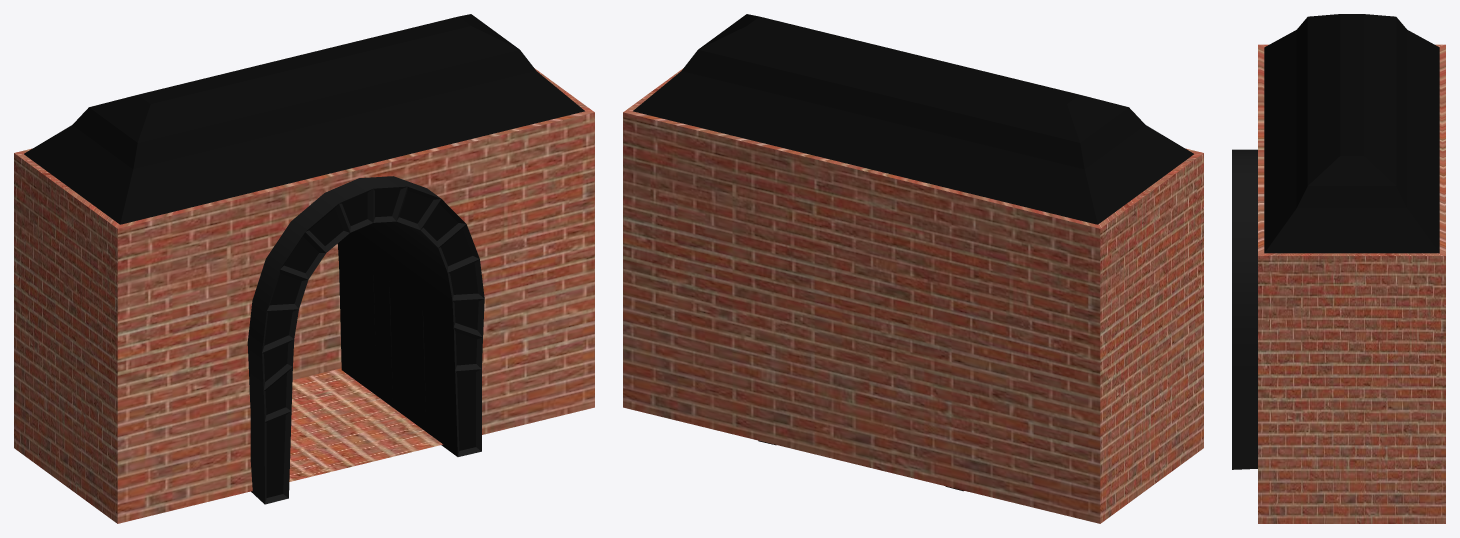
File: tunel.FBX
3 views of the same model, side by side, from view 1: azimuth 30°, elevation 25°; view 2: azimuth 150°, elevation 25°; view 3: azimuth 270°, elevation 25° (orthographic). The views are drawn at different scales.
Visible parts, largest first — view 1: Box001, Object001, Tube001; view 2: Box001, Object001; view 3: Box001, Object001, Tube001.
Part boxes in pixels (x1,y1,x2,y2): Box001: (14, 68, 594, 523); Object001: (24, 14, 584, 224); Tube001: (247, 176, 484, 504); Box001: (623, 68, 1203, 523); Object001: (633, 14, 1193, 224); Box001: (1258, 44, 1445, 523); Object001: (1264, 14, 1439, 253); Tube001: (1232, 149, 1257, 469).
Size of the model in its own units: 79.94 by 59.22 by 34.21.
